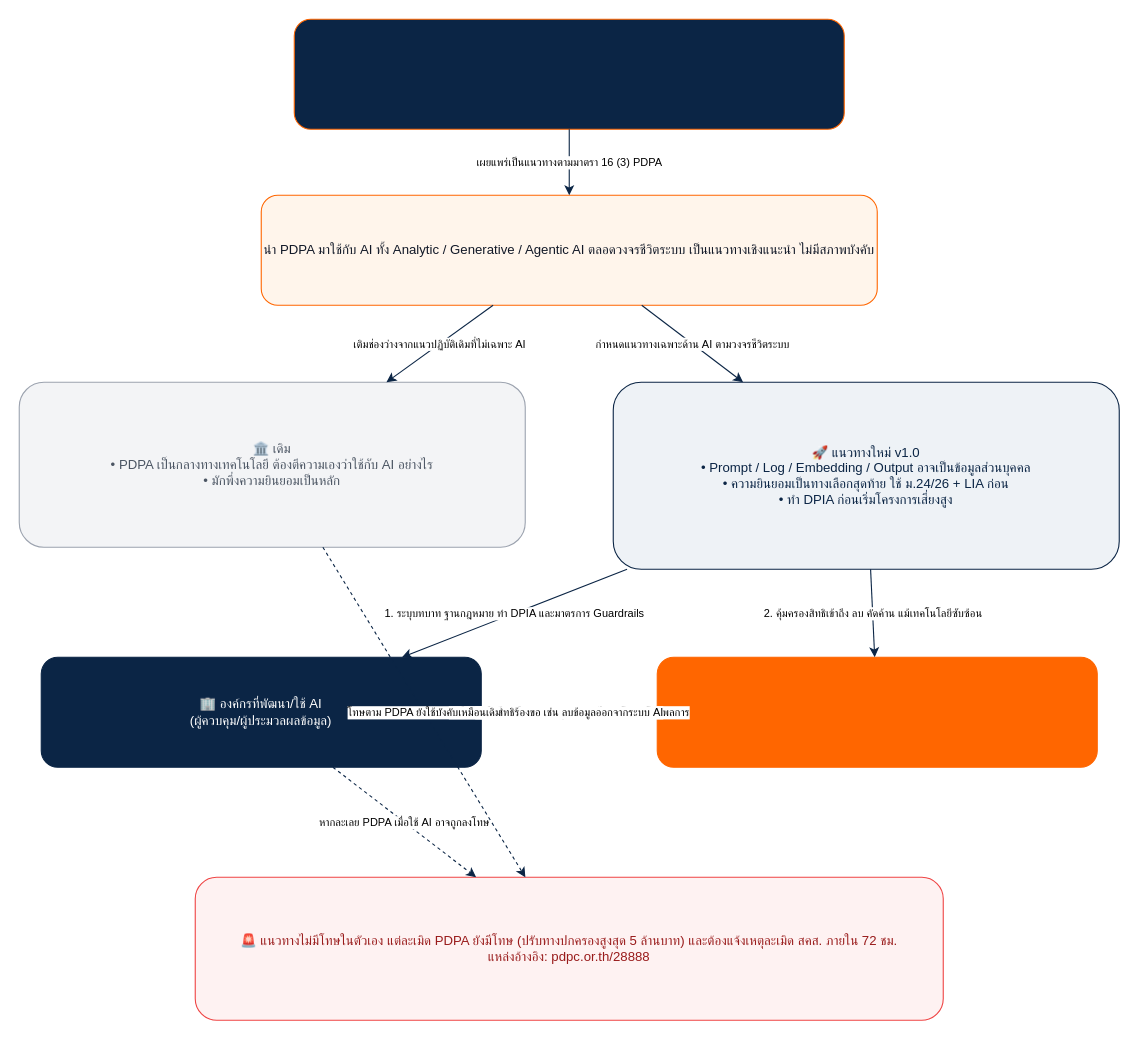
Some shapes in this 1139 by 1040 pixel diagram are drawn without their labels. The box of each missing label's shape, as (x1, y1, x2, y2) in pixels:
👤 เจ้าของข้อมูล / ผู้ใช้งาน AI: (656, 656, 1097, 767)
📜 แนวทาง สคส. คุ้มครองข้อมูลส่วนบุคคลกับ AI (v1.0) เผยแพร่ 7 ต.ค. 2569: (293, 18, 844, 129)
